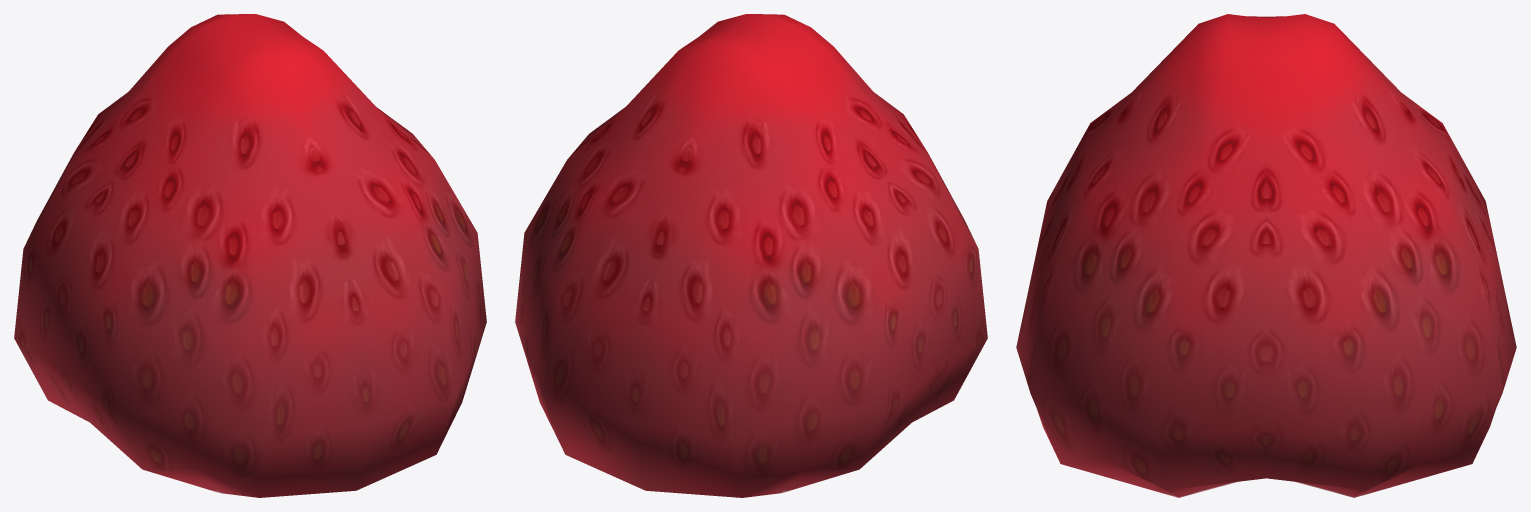
Rendered from strawberryBig.glb.
The picture shows the model from 3 angles, left to right: view 1: azimuth 30°, elevation 25°; view 2: azimuth 150°, elevation 25°; view 3: azimuth 270°, elevation 25°; orthographic projection. The views are drawn at different scales.
Visible parts, largest first — view 1: strawberry_all; view 2: strawberry_all; view 3: strawberry_all.
Boxes of the visible parts, x1,y1,x2,y2 form: strawberry_all: (14,14,486,497); strawberry_all: (515,14,987,497); strawberry_all: (1016,14,1516,497).
Size of the model in its own units: 1.8 by 1.87 by 1.94.
Materials: 1 (1 with a texture image).
